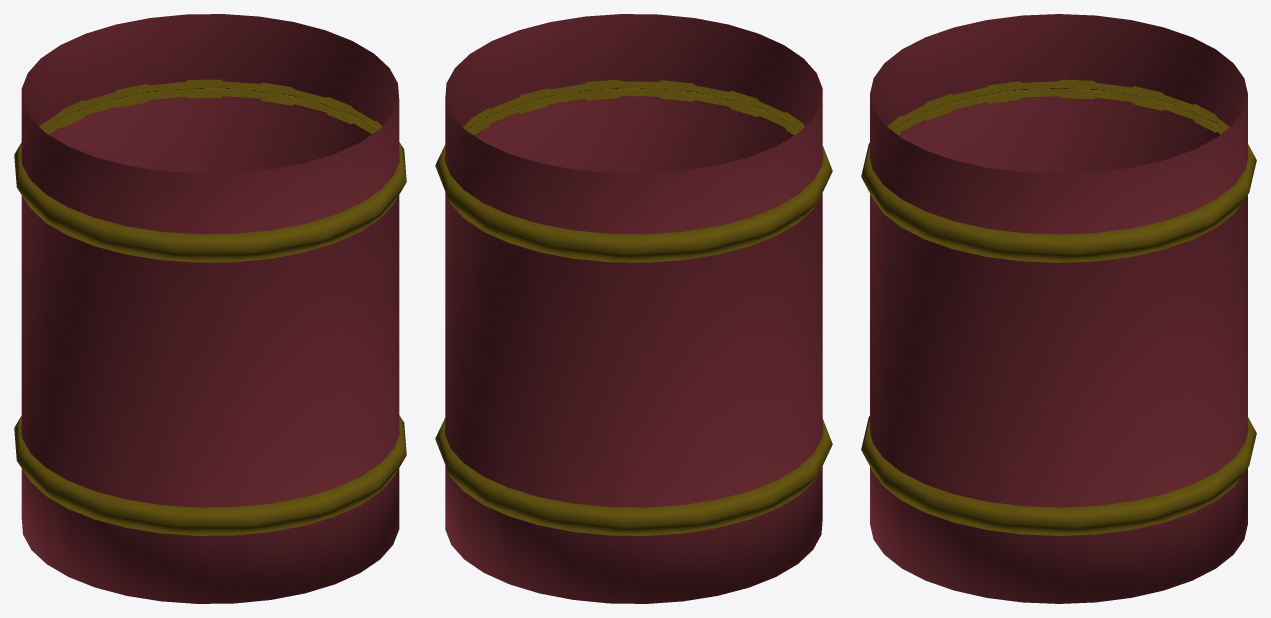
File: barrel.fbx
3 renders of one model, left to right at view 1: azimuth 30°, elevation 25°; view 2: azimuth 150°, elevation 25°; view 3: azimuth 270°, elevation 25°, orthographic.
Visible parts, largest first — view 1: Cylinder, Cylinder.001, Cylinder.002; view 2: Cylinder, Cylinder.001, Cylinder.002; view 3: Cylinder, Cylinder.001, Cylinder.002.
Part boxes in pixels (bbox=[...]): Cylinder: bbox=[21, 14, 399, 603]; Cylinder.001: bbox=[14, 79, 406, 262]; Cylinder.002: bbox=[14, 415, 406, 535]; Cylinder: bbox=[444, 14, 823, 603]; Cylinder.001: bbox=[435, 79, 832, 262]; Cylinder.002: bbox=[435, 418, 832, 535]; Cylinder: bbox=[869, 14, 1248, 603]; Cylinder.001: bbox=[861, 79, 1256, 262]; Cylinder.002: bbox=[861, 416, 1256, 535].
Bounding box in the file's own units: 359 × 431 × 359.
